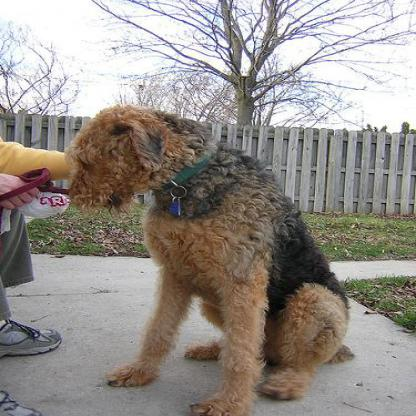dog: (58, 96, 382, 413)
